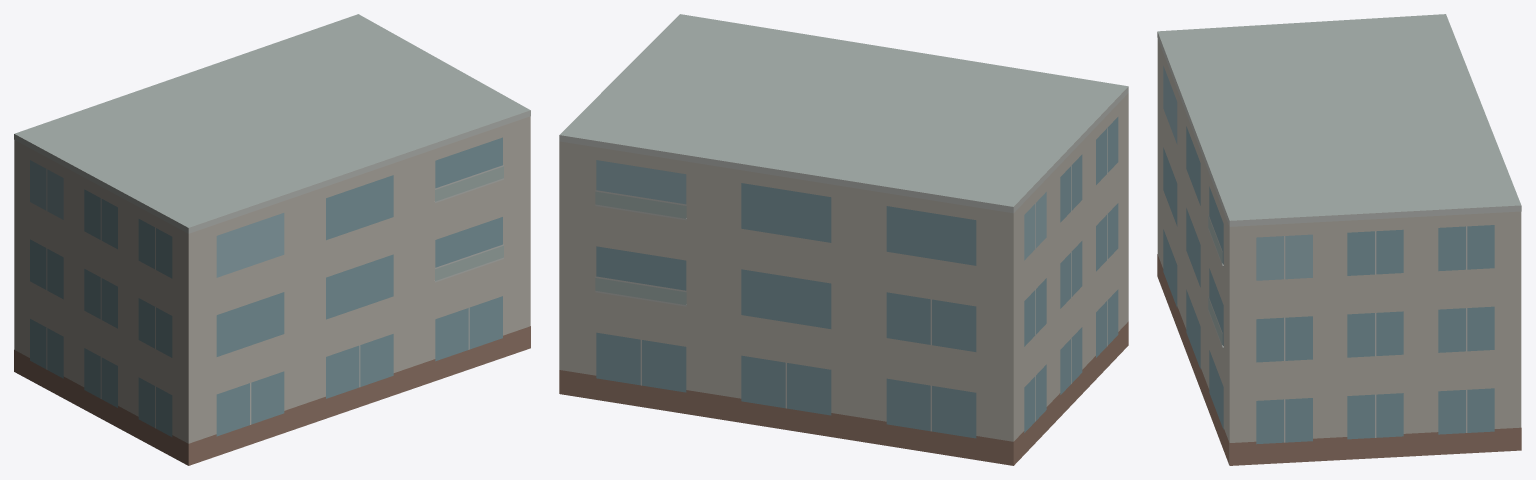
The model's file is survey-upis-32991910.glb.
3 views of the same model, side by side, from view 1: azimuth 30°, elevation 25°; view 2: azimuth 150°, elevation 25°; view 3: azimuth 270°, elevation 25° (orthographic). The views are drawn at different scales.
Parts seen in each view (by area): view 1: survey-upis-32991910.tmp; view 2: survey-upis-32991910.tmp; view 3: survey-upis-32991910.tmp.
Part boxes in pixels (box(x1,y1,x2,y2)): survey-upis-32991910.tmp: box(14, 14, 530, 465); survey-upis-32991910.tmp: box(559, 14, 1128, 465); survey-upis-32991910.tmp: box(1157, 14, 1521, 465).
Size of the model in its own units: 17.84 by 9.85 by 13.27.
